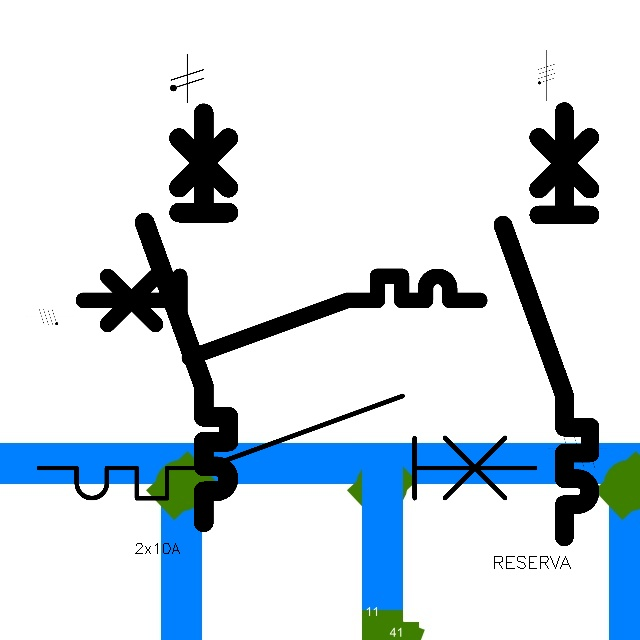interruptor_termomagnetico: (26, 383, 548, 511), (492, 100, 601, 547), (134, 102, 239, 532), (73, 266, 490, 368)
